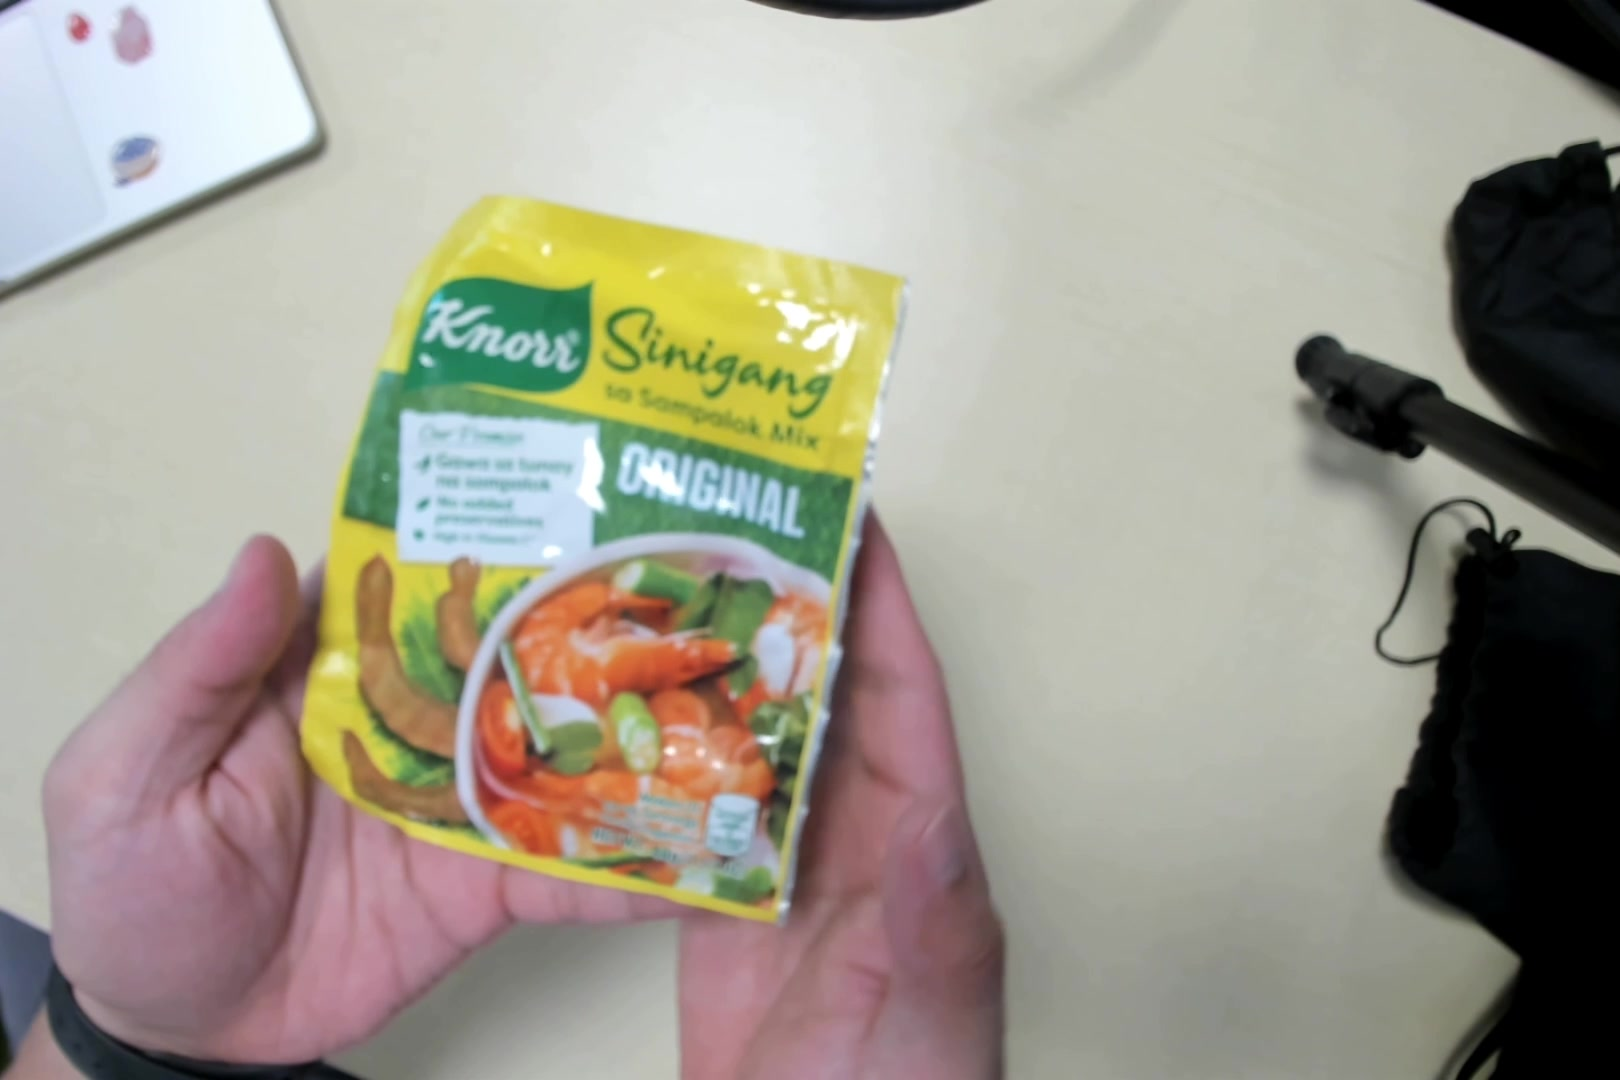SoupStock_0-99g_NonHalal_NonHealthy: (318, 194, 864, 917)
